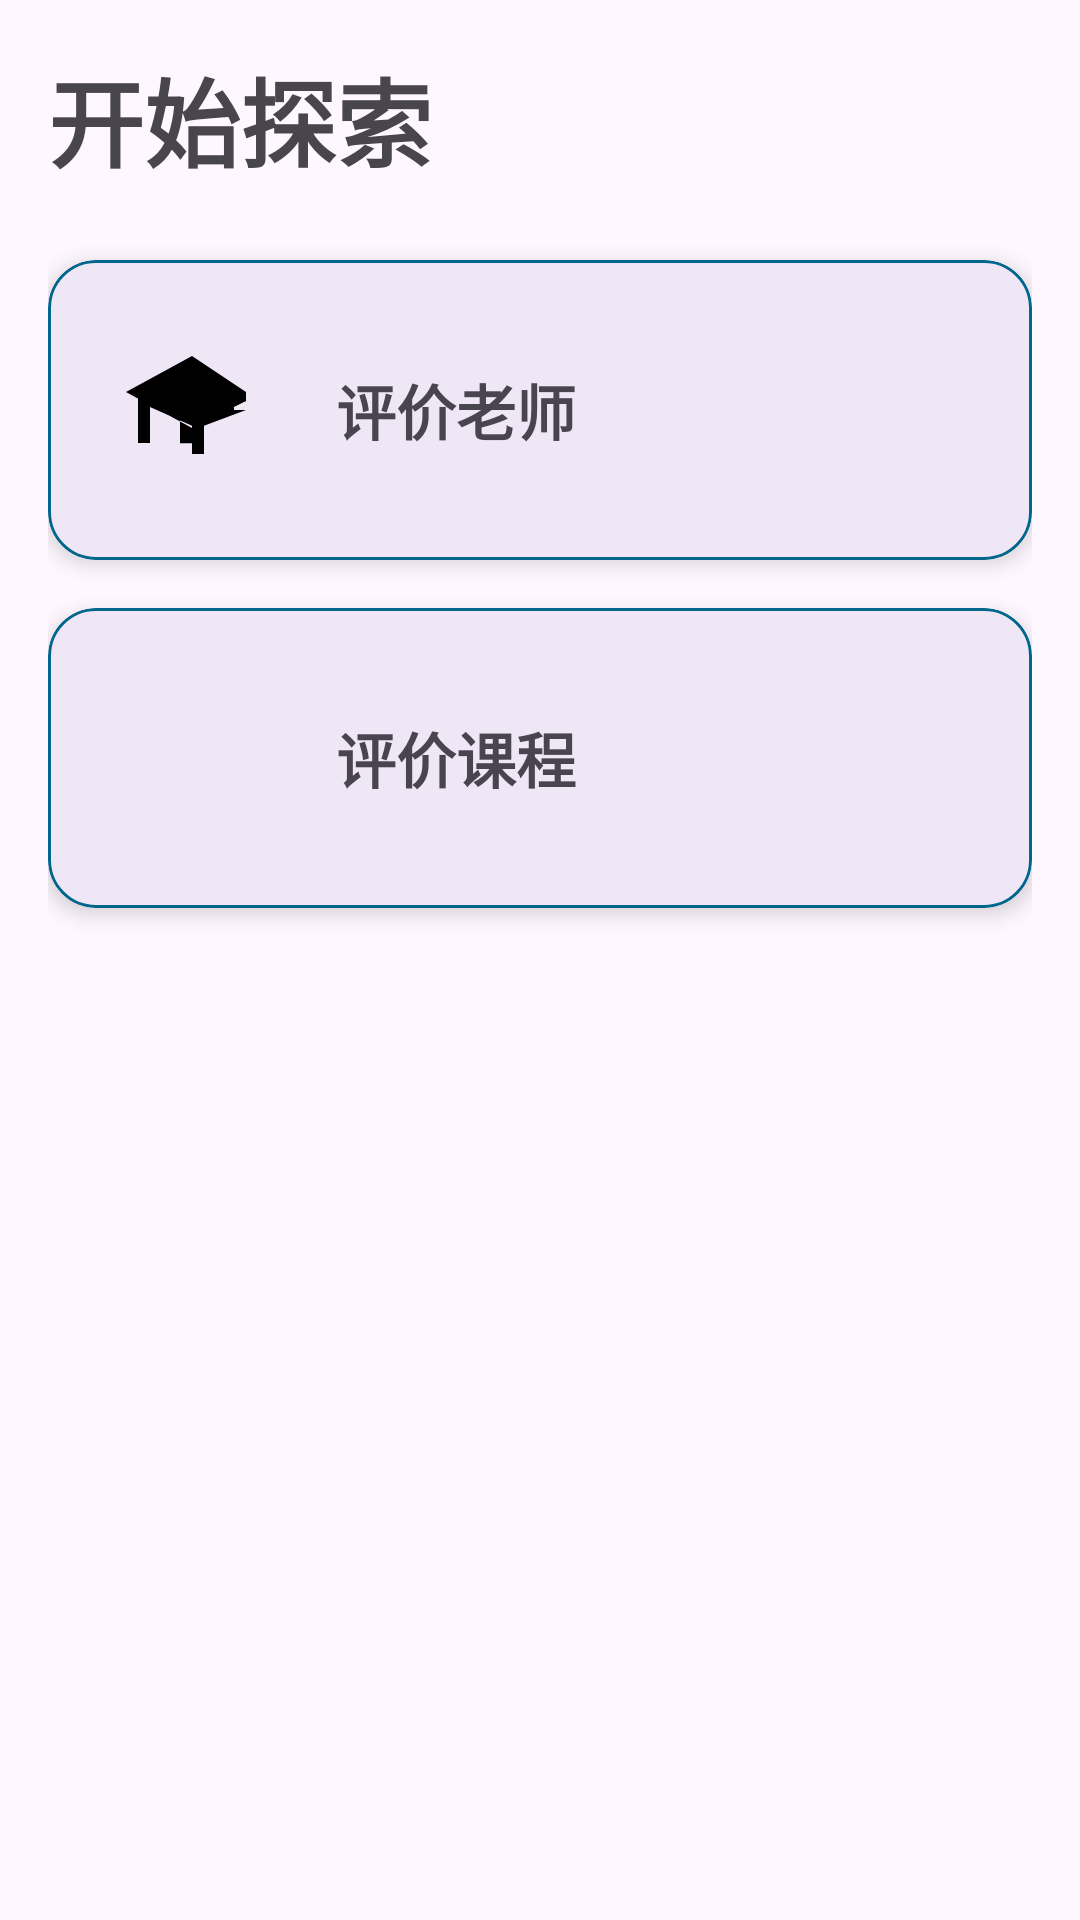

Icons on this 1080w x 1920h Android screen, each with its box as [x1=x1, y1=y1, x2=x2, y2=y2]:
teacher: [x1=126, y1=356, x2=246, y2=454]
